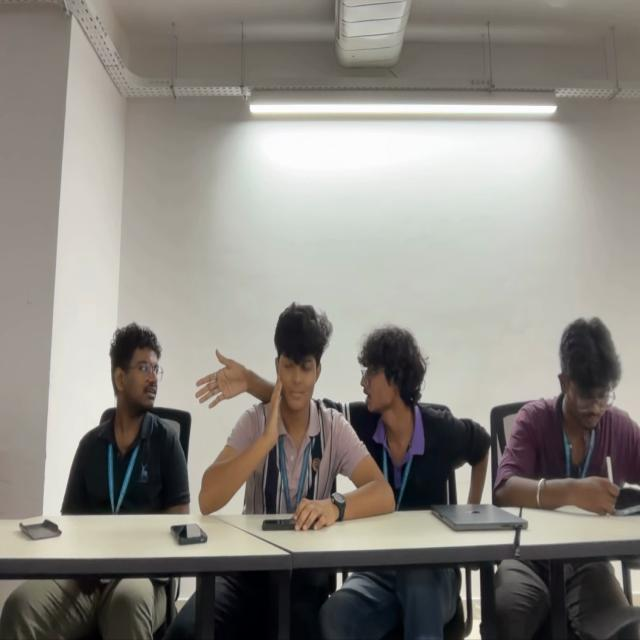Isolated: (498, 314, 640, 508), (66, 324, 188, 510)
socializing: (204, 304, 487, 503)
